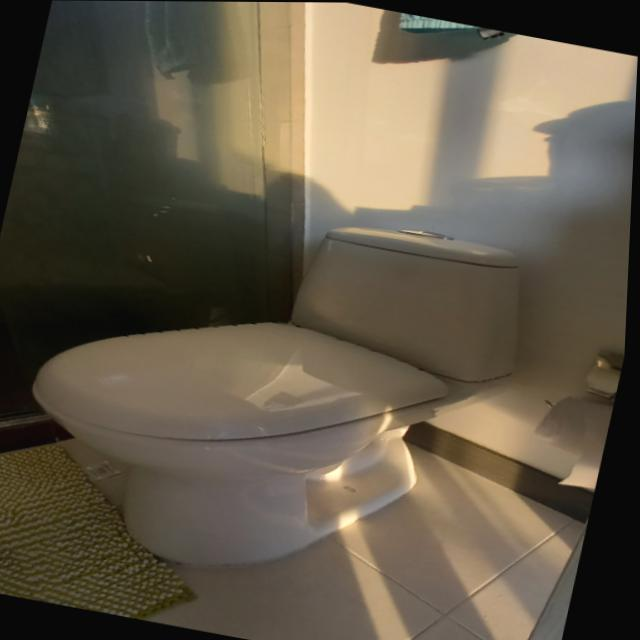toilet: (1, 167, 546, 616)
